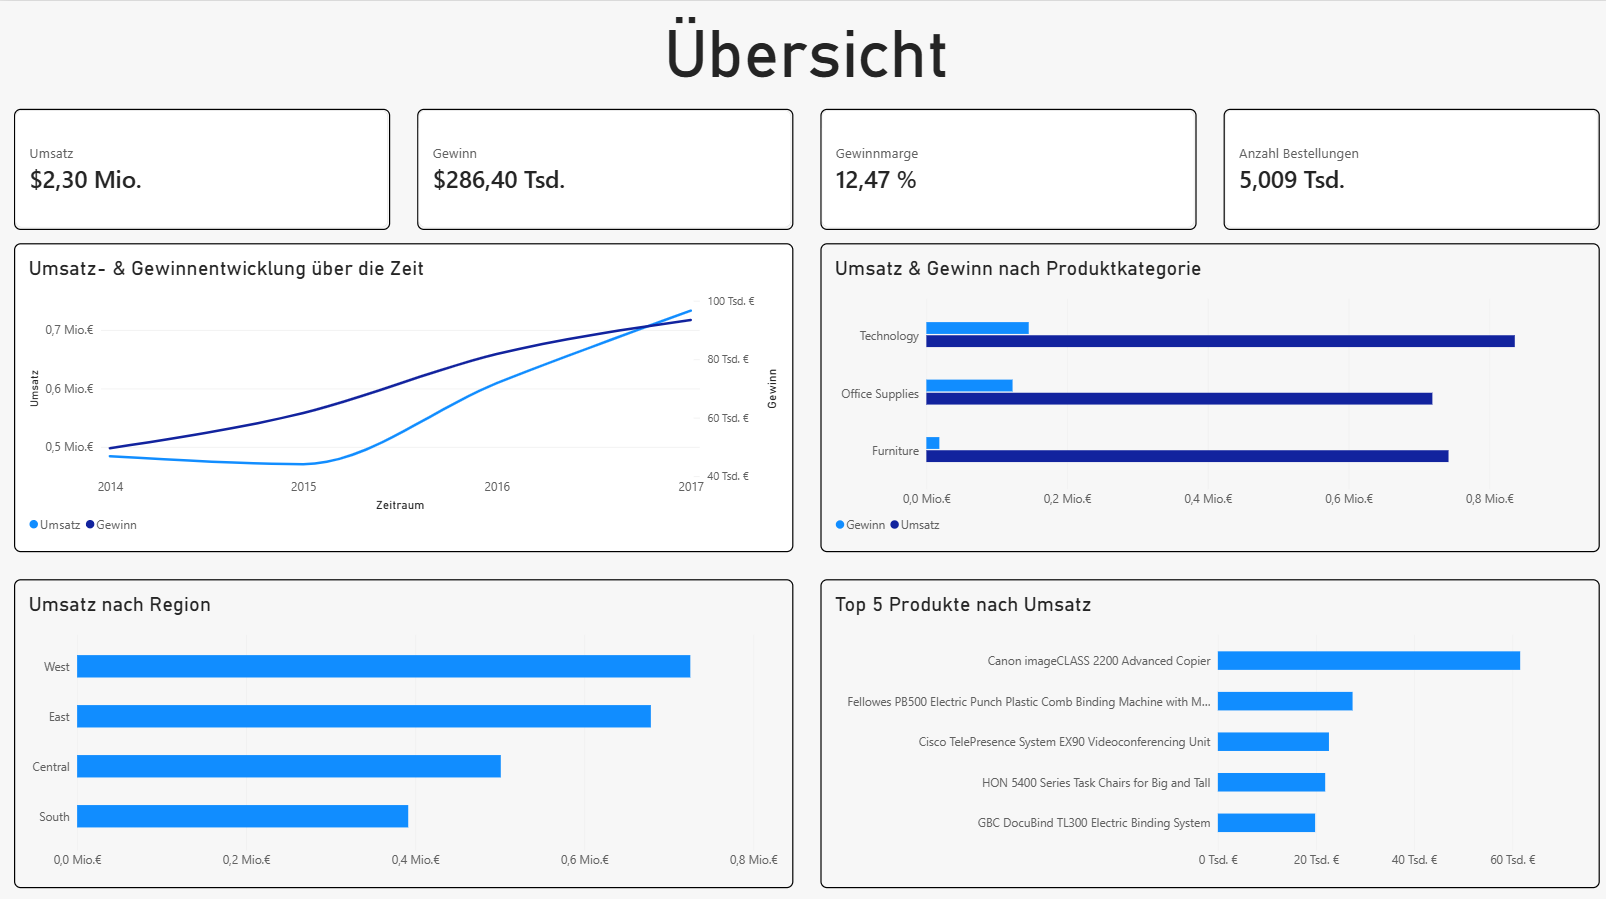

The page's visual inventory and layout, read from the dashboard file:
{"tool":"powerbi","page":{"name":"Übersicht","canvas":[1920,1080],"ordinal":0},"visuals":[{"type":"clusteredBarChart","title":"Umsatz & Gewinn nach Produktkategorie","fields":{"Category":["Sample - Superstore.Category"],"Y":["Sample - Superstore.Gewinn","Sample - Superstore.Umsatz"]},"box":[976,288,928,368],"z":0},{"type":"cardVisual","title":"Gesamtumsatz","fields":{"Data":["Sum(Sample - Superstore.Sales)"]},"box":[16,128,448,144],"z":1000},{"type":"cardVisual","fields":{"Data":["Sum(Sample - Superstore.Profit)"]},"box":[496,128,448,144],"z":2000},{"type":"cardVisual","fields":{"Data":["Sample - Superstore.Anzahl Bestellungen"]},"box":[1456,128,448,144],"z":3000},{"type":"lineChart","title":"Umsatz- & Gewinnentwicklung über die Zeit","fields":{"Category":["Sample - Superstore.Order Date.Variation.Datumshierarchie.Jahr","Sample - Superstore.Order Date.Variation.Datumshierarchie.Quartal","Sample - Superstore.Order Date.Variation.Datumshierarchie.Monat","Sample - Superstore.Order Date.Variation.Datumshierarchie.Tag"],"Y":["Sample - Superstore.Umsatz"],"Y2":["Sample - Superstore.Gewinn"]},"box":[16,288,928,368],"z":4000},{"type":"textbox","box":[16,16,1888,96],"z":5000},{"type":"cardVisual","fields":{"Data":["Sample - Superstore.Profit Margin"]},"box":[976,128,448,144],"z":6000},{"type":"clusteredBarChart","title":"Top 5 Produkte nach Umsatz","fields":{"Category":["Sample - Superstore.Product Name"],"Y":["Sample - Superstore.Umsatz"]},"box":[976,688,928,368],"z":7000},{"type":"clusteredBarChart","title":"Umsatz nach Region","fields":{"Category":["Sample - Superstore.Region"],"Y":["Sample - Superstore.Umsatz"]},"box":[16,688,928,368],"z":8000}]}

Visuals, with their boxes in screenshot pixels (x1, y1, x2, y2), scaled from the page's 1920x1080 canvas onto the 1606x899 screenshot:
"Umsatz & Gewinn nach Produktkategorie" clusteredBarChart: region(816, 240, 1593, 546)
"Gesamtumsatz" cardVisual: region(13, 107, 388, 226)
cardVisual - Sum(Sample - Superstore.Profit): region(415, 107, 790, 226)
cardVisual - Sample - Superstore.Anzahl Bestellungen: region(1218, 107, 1593, 226)
"Umsatz- & Gewinnentwicklung über die Zeit" lineChart: region(13, 240, 790, 546)
textbox: region(13, 13, 1593, 93)
cardVisual - Sample - Superstore.Profit Margin: region(816, 107, 1191, 226)
"Top 5 Produkte nach Umsatz" clusteredBarChart: region(816, 573, 1593, 879)
"Umsatz nach Region" clusteredBarChart: region(13, 573, 790, 879)
